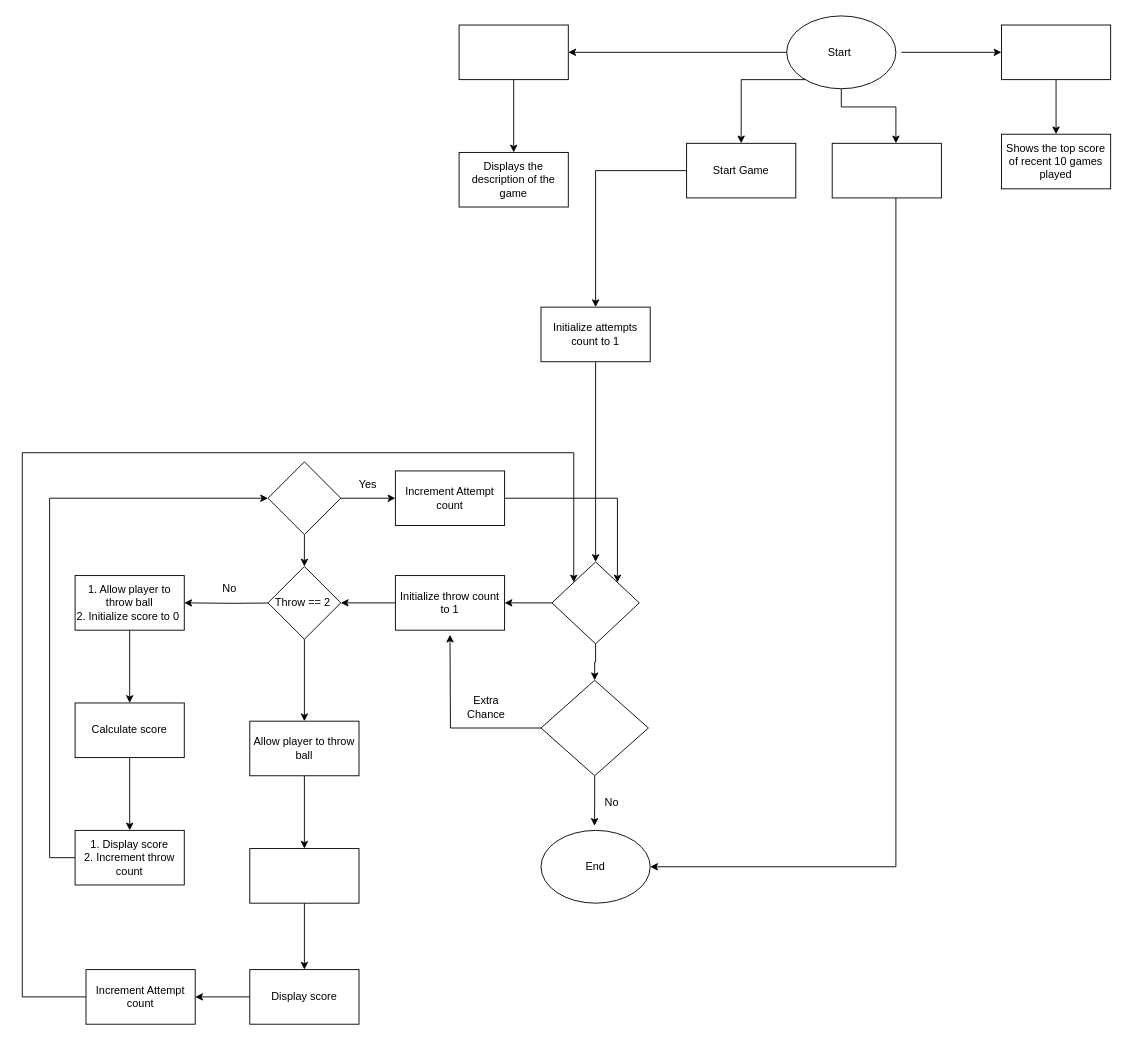
Image size: 1127x1040. Some labels were removed from this diagram. Each missing label, with the centre of its shape:
"1. Calculate score 2. Add score to the previous score" belongs at (x=304, y=875).
"About Game" belongs at (x=513, y=52).
"Attempts <10" belongs at (x=595, y=602).
"Attempts ==10 && score==10" belongs at (x=594, y=727).
"Quit Game" belongs at (x=886, y=170).
"score==10" belongs at (x=304, y=498).
"Top Score" belongs at (x=1056, y=52).
